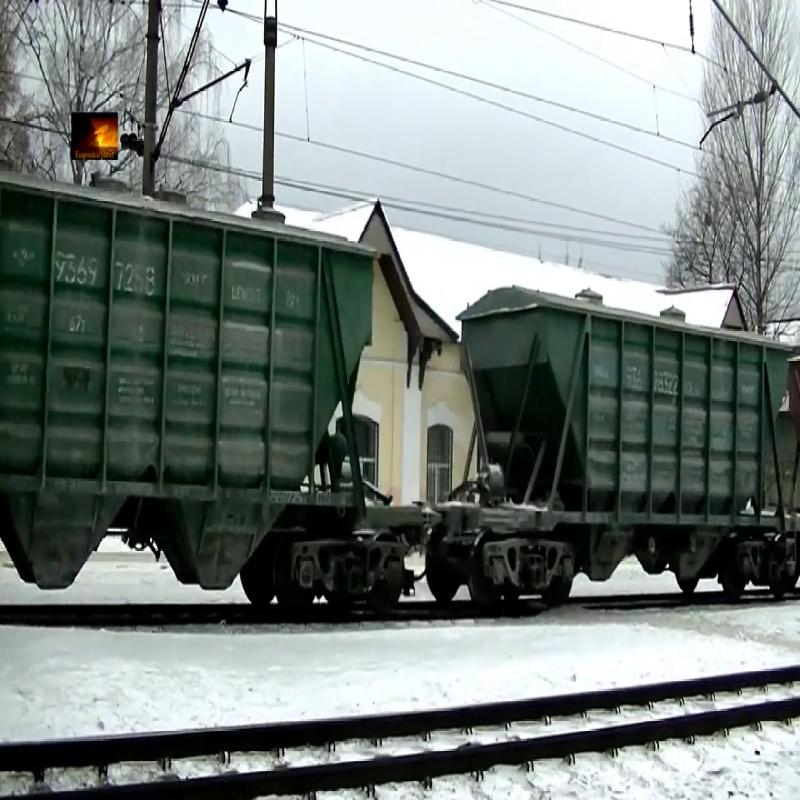train: (1, 175, 429, 610), (449, 290, 795, 618)
